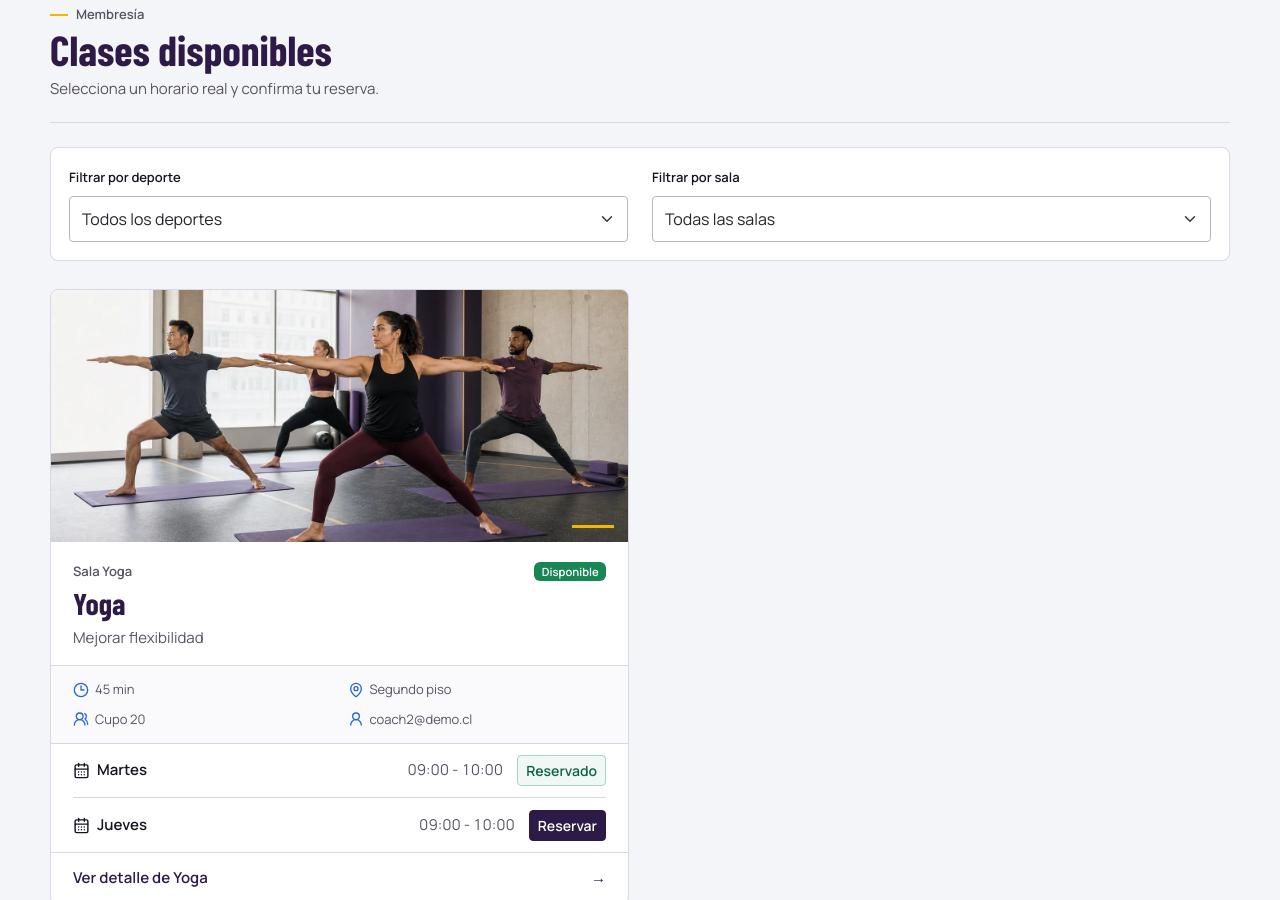
Test: MemberClassesPage › blocks duplicate schedules, reserves a free schedule, and refreshes API state
Expected: the button with aria-label "Reservado: Yoga, Martes 09:00" is disabled, [517,755,606,786]
Click the button with aria-label "Reservar Yoga, Jueves 09:00": (567, 825) [529,810,606,841]
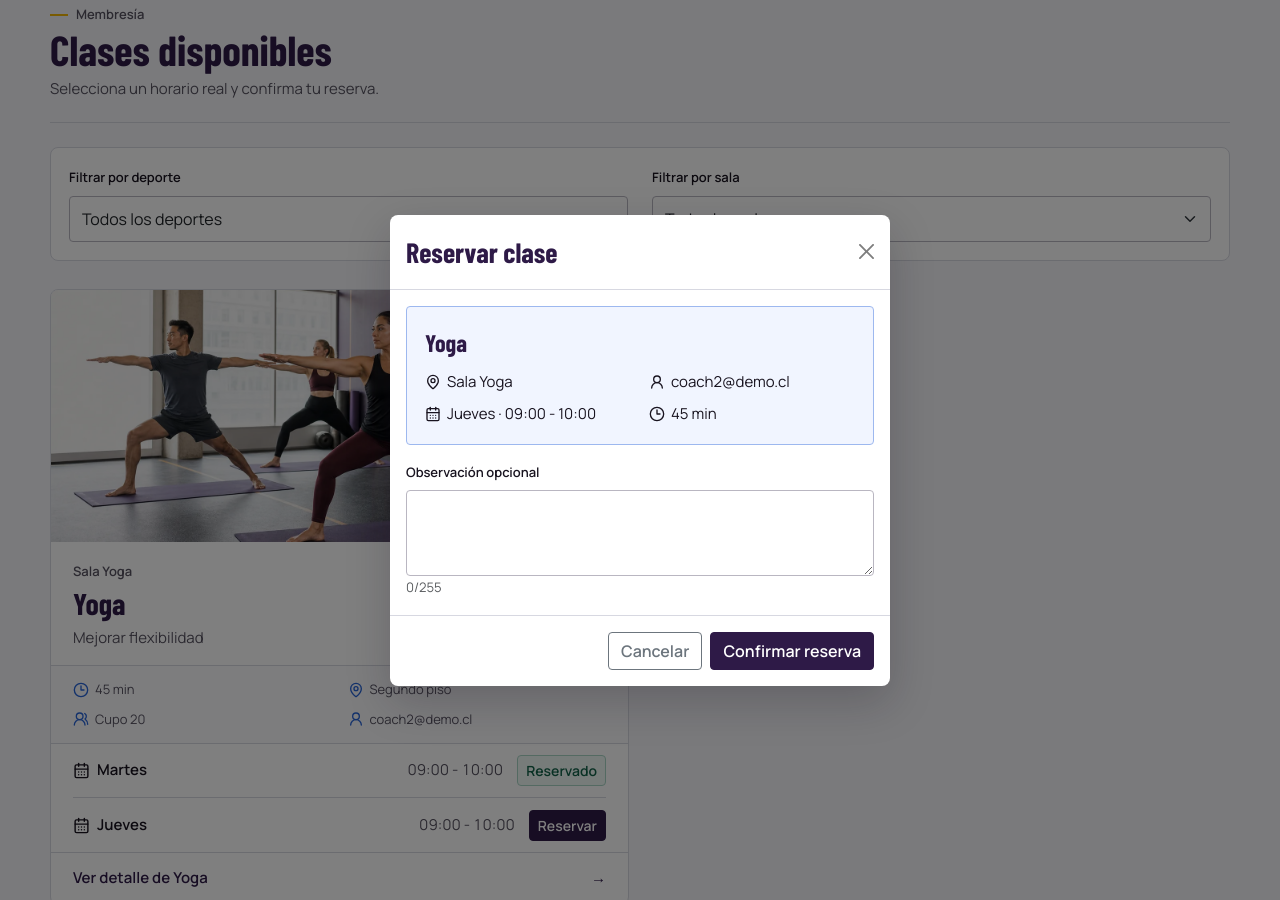
Click the button "Confirmar reserva": (792, 650) [710,632,874,670]
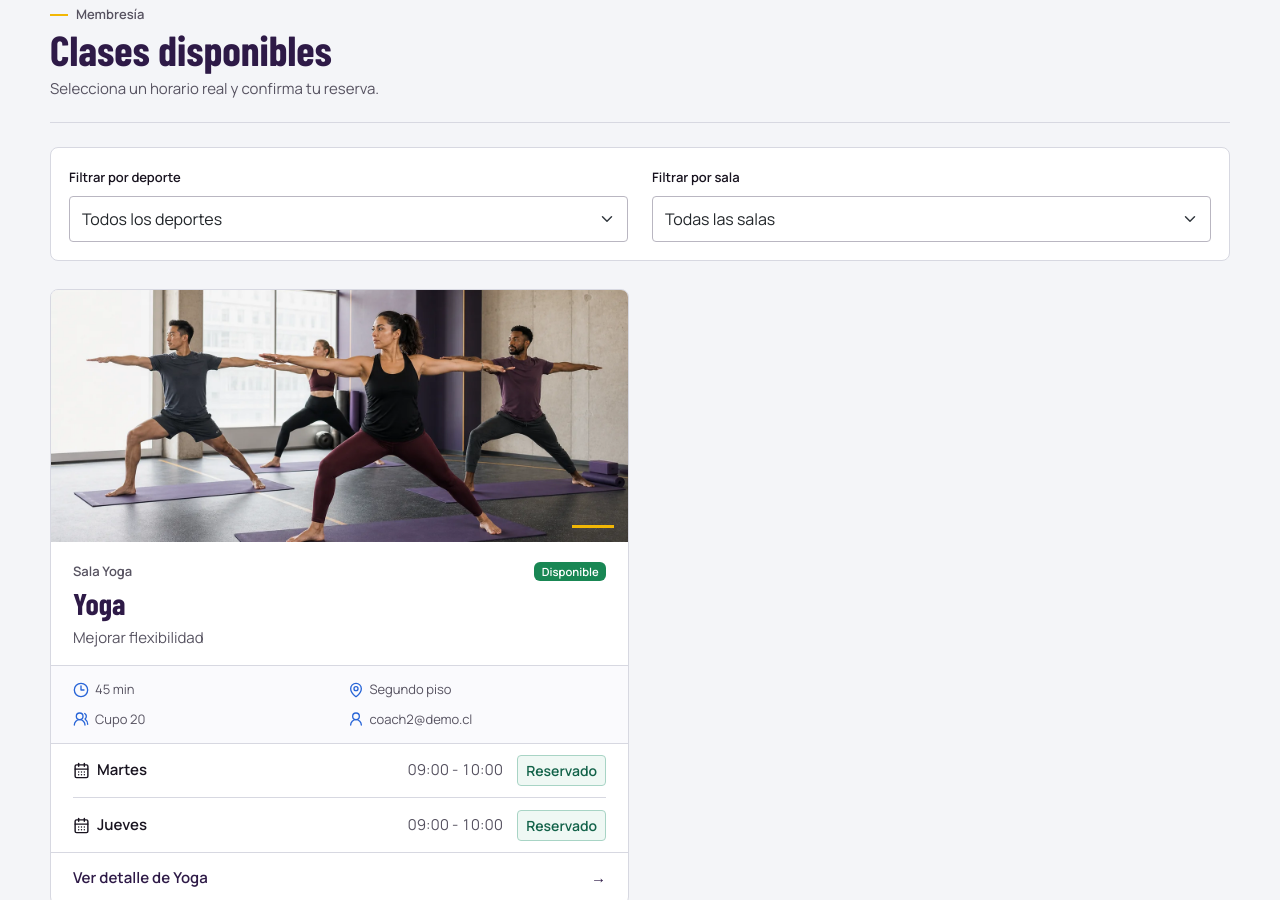
Expected: the button with aria-label "Reservado: Yoga, Jueves 09:00" is disabled, [517,810,606,841]
